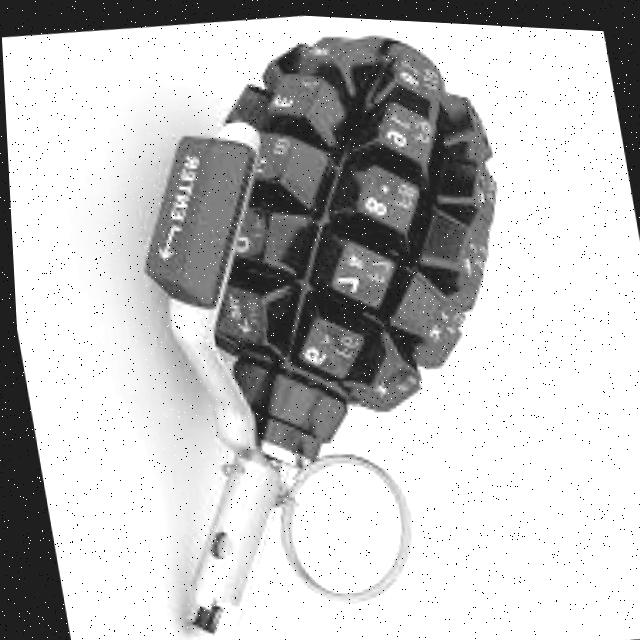grenade: (76, 3, 584, 640)
